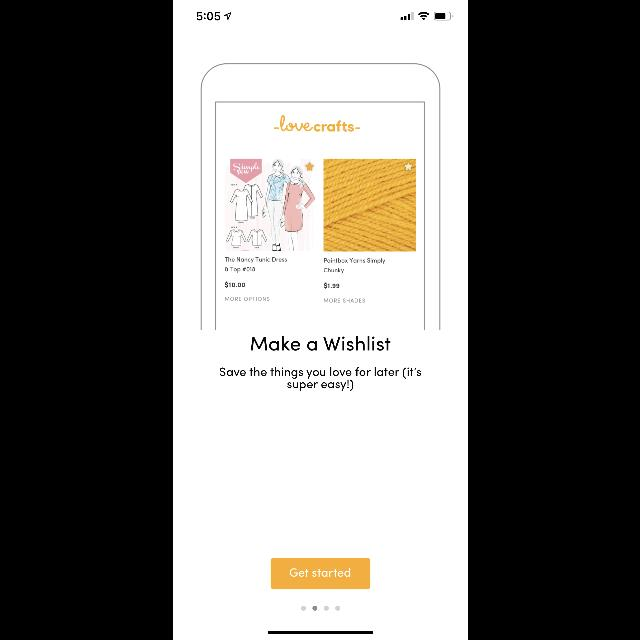image: (200, 63, 440, 330)
pageindicator: (300, 606, 340, 610)
text: (220, 367, 420, 391), (250, 336, 390, 350)
textbutton: (270, 558, 370, 588)
uppertaskbar: (196, 12, 452, 21)
